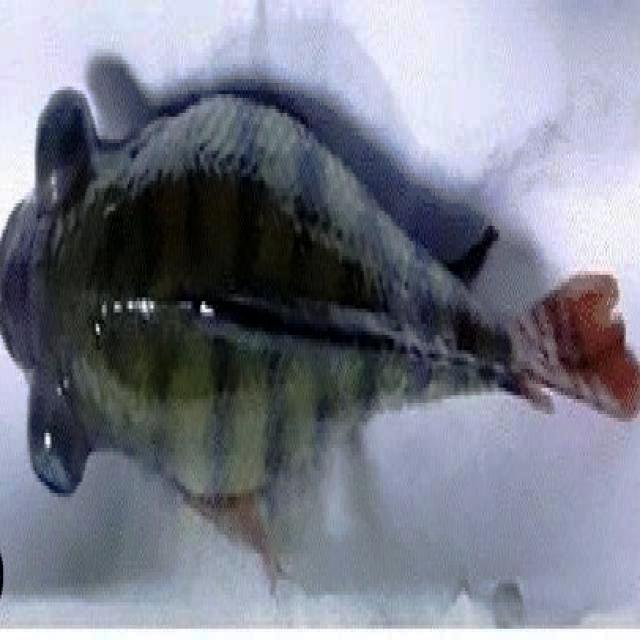Tilapia Lake Virus -TiLV-: (0, 91, 559, 472)
